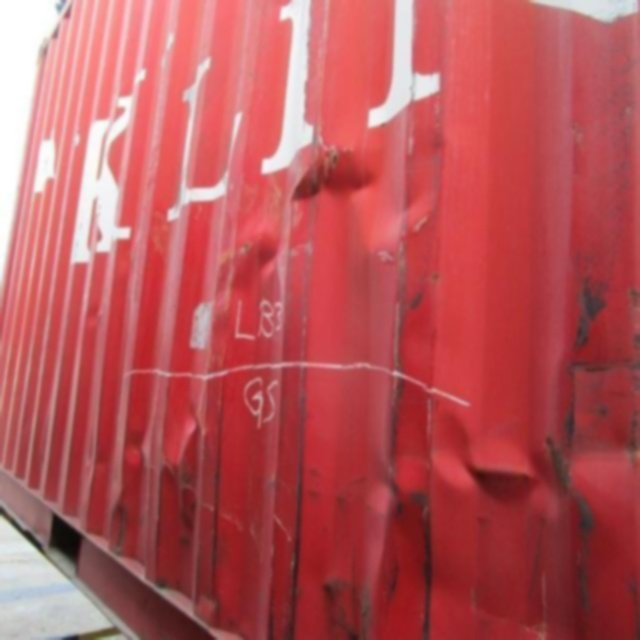Dent: (82, 337, 289, 640)
